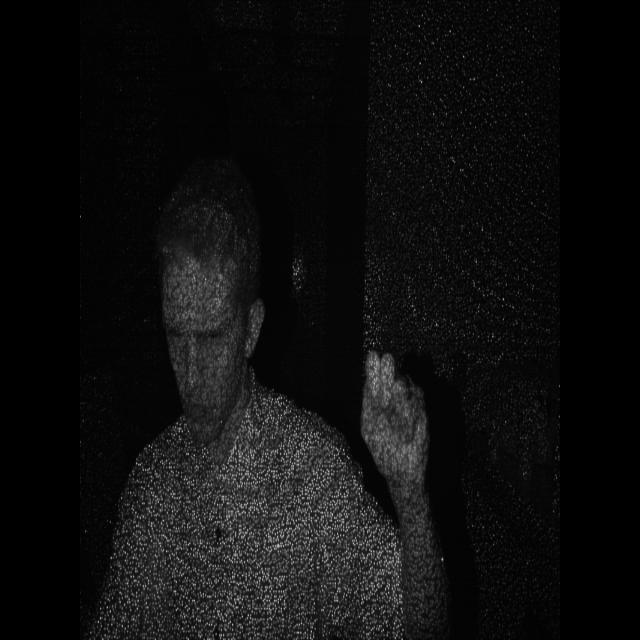N: (360, 338, 440, 510)
